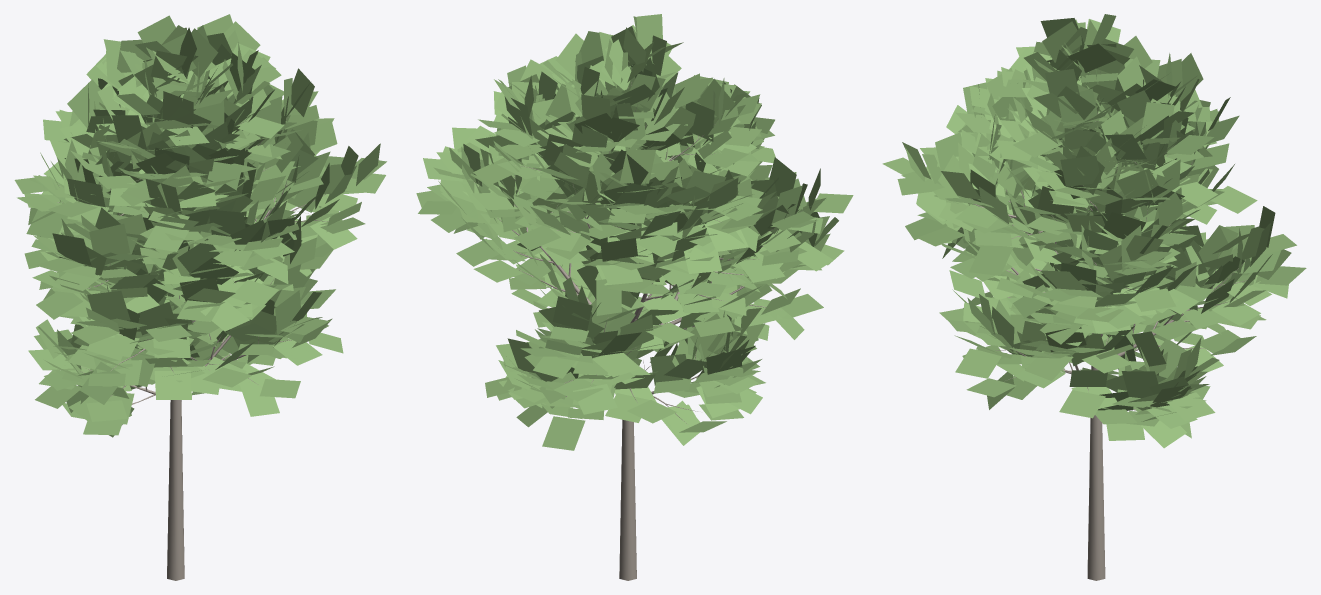
Rendered from tree_a.glb.
3 renders of one model, left to right at view 1: azimuth 30°, elevation 25°; view 2: azimuth 150°, elevation 25°; view 3: azimuth 270°, elevation 25°, orthographic.
Parts seen in each view (by area): view 1: tree; view 2: tree; view 3: tree.
Part boxes in pixels (x1=…): tree: x1=14, y1=14, x2=386, y2=580; tree: x1=416, y1=14, x2=853, y2=580; tree: x1=882, y1=14, x2=1306, y2=580.
Size of the model in its own units: 9.17 by 12.79 by 8.77.
